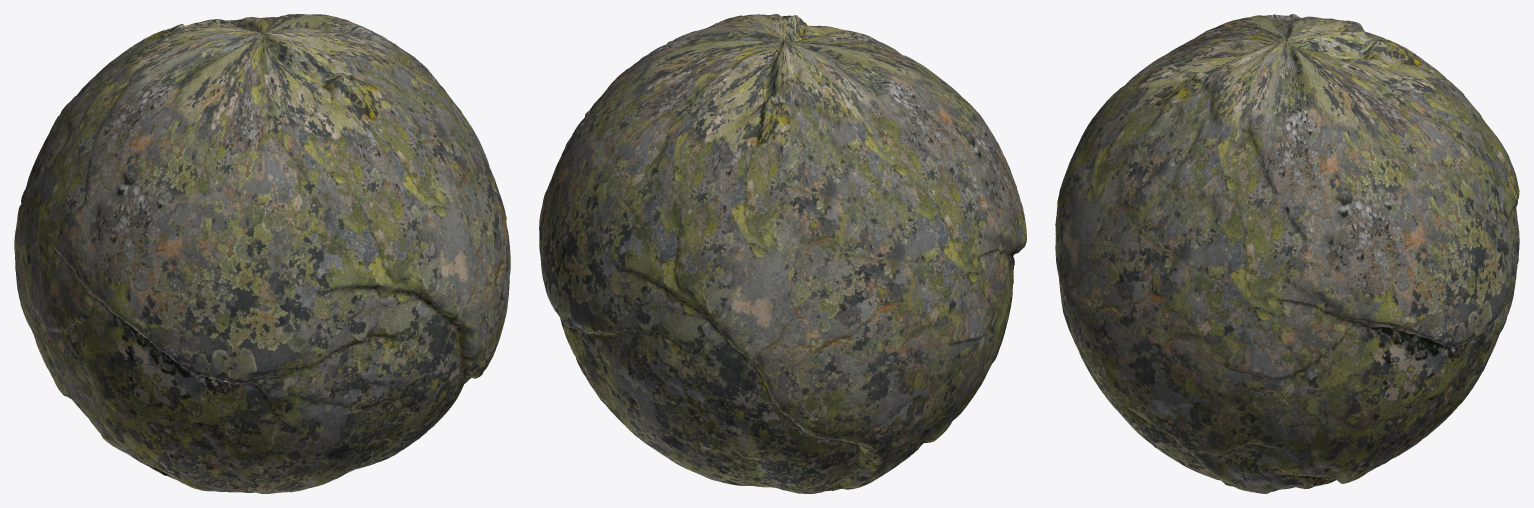
Rendered from mossy_rock_1k.gltf.
3 renders of one model, left to right at view 1: azimuth 30°, elevation 25°; view 2: azimuth 150°, elevation 25°; view 3: azimuth 270°, elevation 25°, orthographic. The views are drawn at different scales.
Visible parts, largest first — view 1: sphere_gltf; view 2: sphere_gltf; view 3: sphere_gltf.
Boxes of the visible parts, left/top/right/bottom form: sphere_gltf: left=14, top=14, right=510, bottom=493; sphere_gltf: left=539, top=14, right=1026, bottom=493; sphere_gltf: left=1055, top=14, right=1519, bottom=493.
Size of the model in its own units: 2.98 by 3.03 by 2.93.
Materials: 1 (1 with a texture image).
